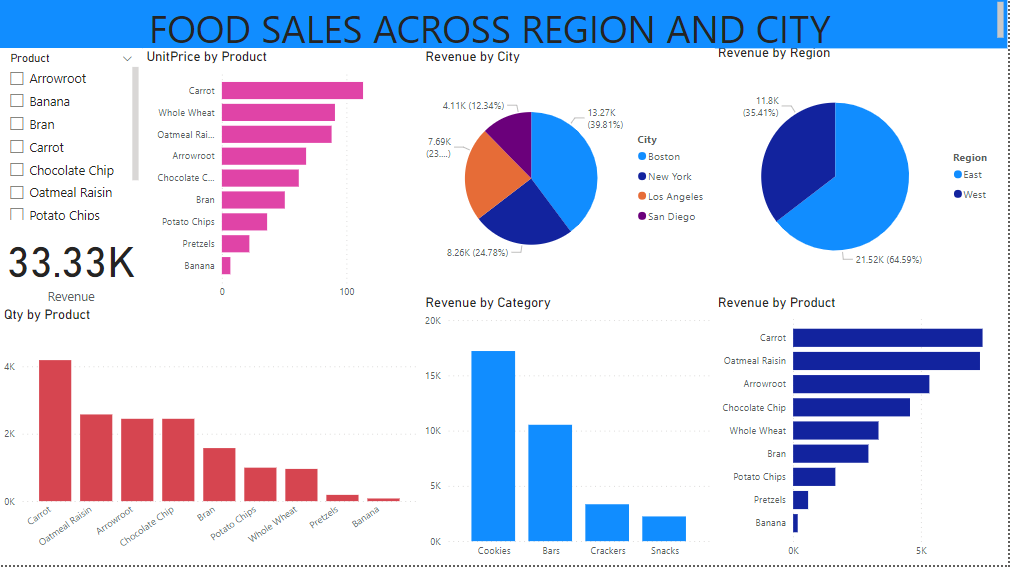

This screenshot's page, from the dashboard's own definition file:
{"tool":"powerbi","page":{"name":"Page 2","canvas":[1280,720],"ordinal":1},"visuals":[{"type":"pieChart","fields":{"Y":["Sum(Food supply.Revenue)"],"Category":["Food supply.Region"]},"box":[906.9,59.1,372.7,317.2],"z":0},{"type":"textbox","box":[0,0,1279.6,63.9],"z":1000},{"type":"barChart","fields":{"Category":["Food supply.Product"],"Y":["Sum(Food supply.Revenue)"]},"box":[906.9,376.3,372.7,343.7],"z":2000},{"type":"pieChart","fields":{"Y":["Sum(Food supply.Revenue)"],"Category":["Food supply.City"]},"box":[534.3,63.9,372.7,312.4],"z":3000},{"type":"columnChart","fields":{"Category":["Food supply.Category"],"Y":["Sum(Food supply.Revenue)"]},"box":[534.3,376.3,372.7,343.7],"z":4000},{"type":"clusteredColumnChart","fields":{"Category":["Food supply.Product"],"Y":["Sum(Food supply.Qty)"]},"box":[0,392,534.3,328],"z":5000},{"type":"slicer","fields":{"Values":["Food supply.Product"]},"box":[0,63.9,180.9,223.1],"z":6000},{"type":"card","fields":{"Values":["Sum(Food supply.Revenue)"]},"box":[0,287,180.9,104.9],"z":7000},{"type":"clusteredBarChart","fields":{"Y":["Sum(Food supply.UnitPrice)"],"Category":["Food supply.Product"]},"box":[180.9,63.9,353.4,328],"z":8000}]}

Visuals, with their boxes in screenshot pixels (x1, y1, x2, y2), scaled from the page's 1280x720 canvas onto the 1010x569 screenshot:
pieChart - Sum(Food supply.Revenue) x Food supply.Region: bbox=[716, 47, 1009, 297]
textbox: bbox=[0, 0, 1009, 50]
barChart - Food supply.Product x Sum(Food supply.Revenue): bbox=[716, 297, 1009, 568]
pieChart - Sum(Food supply.Revenue) x Food supply.City: bbox=[422, 50, 716, 297]
columnChart - Food supply.Category x Sum(Food supply.Revenue): bbox=[422, 297, 716, 568]
clusteredColumnChart - Food supply.Product x Sum(Food supply.Qty): bbox=[0, 310, 422, 568]
slicer - Food supply.Product: bbox=[0, 50, 143, 227]
card - Sum(Food supply.Revenue): bbox=[0, 227, 143, 310]
clusteredBarChart - Sum(Food supply.UnitPrice) x Food supply.Product: bbox=[143, 50, 422, 310]
